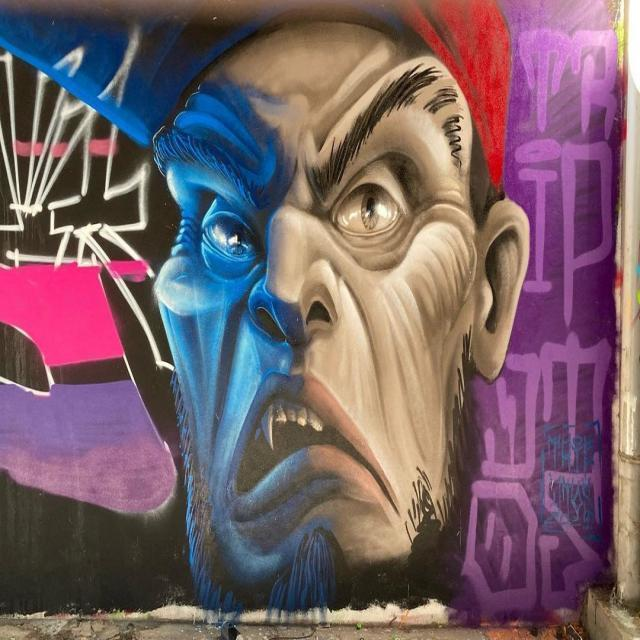-: (114, 12, 521, 626), (471, 338, 622, 629), (512, 20, 623, 328)
